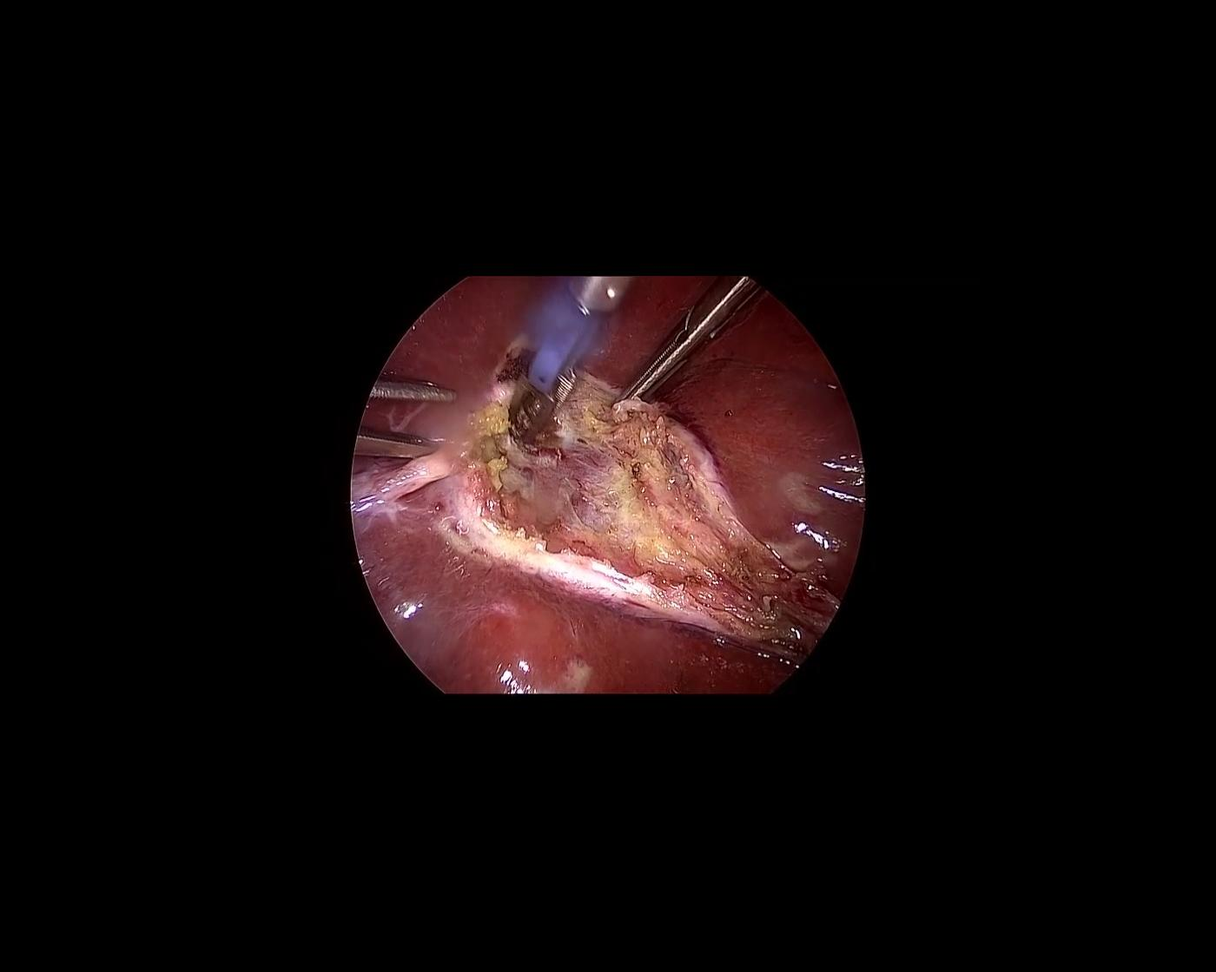Allis: (485, 248, 638, 454)
Forceps: (588, 255, 767, 423), (355, 375, 461, 467)
Liver: (354, 278, 862, 694)
